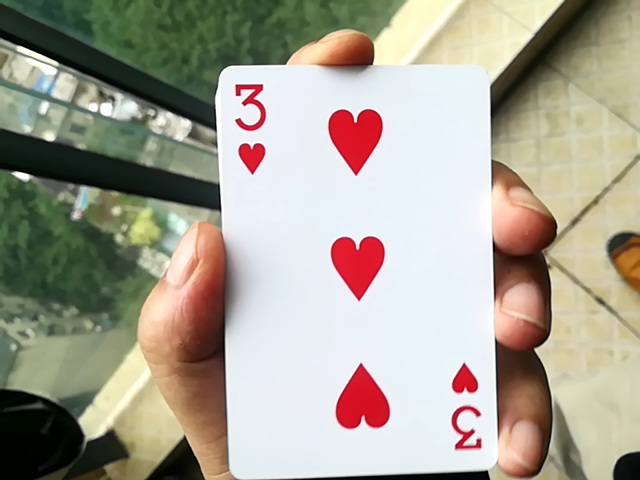hx 3: (206, 43, 495, 480)
